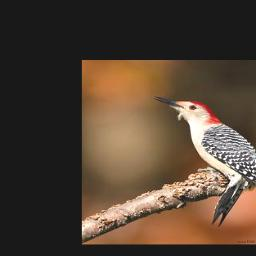Woodpecker: (154, 96, 256, 229)
